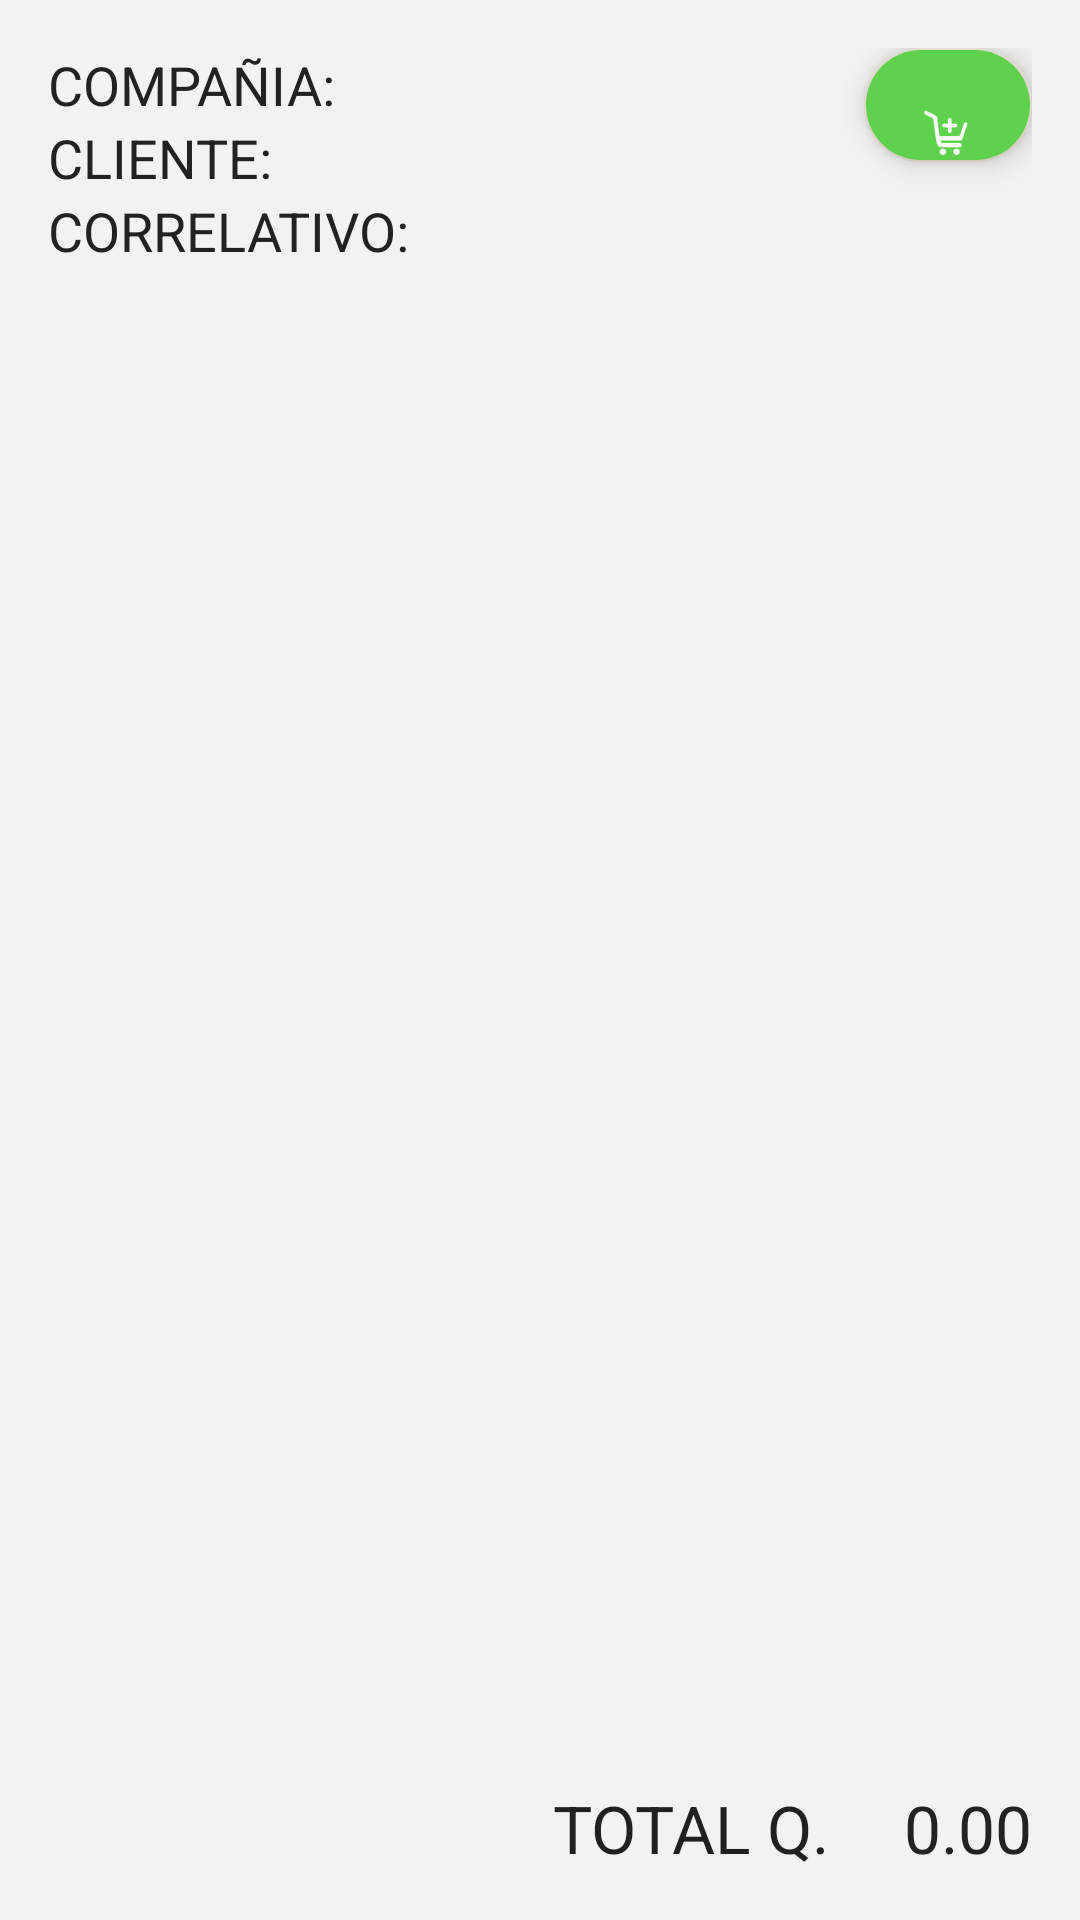

Screen size 1080w x 1920h. Icon name, then its center in pixels as (x,y):
addshoping: (948,105)
